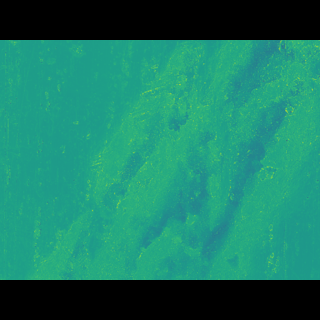Loch: (23, 69, 320, 250)
